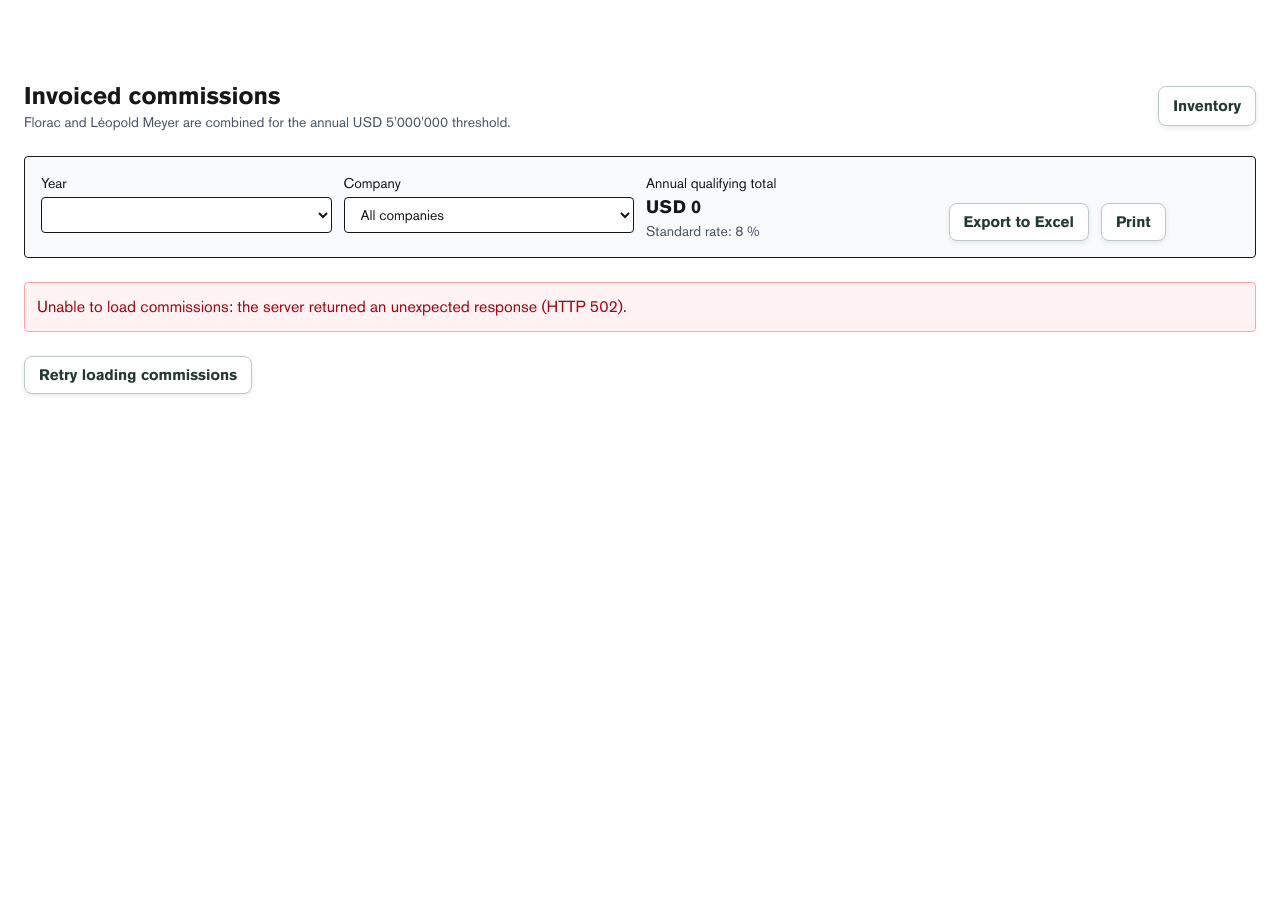
Scenario: commission invoice file input › stops loading and offers retry after an HTML error page
Expected: the message shows "HTTP 502", x1=37 y1=297 x2=627 y2=316
Click the button "Retry loading commissions" at (138, 375), box x1=24 y1=356 x2=252 y2=394
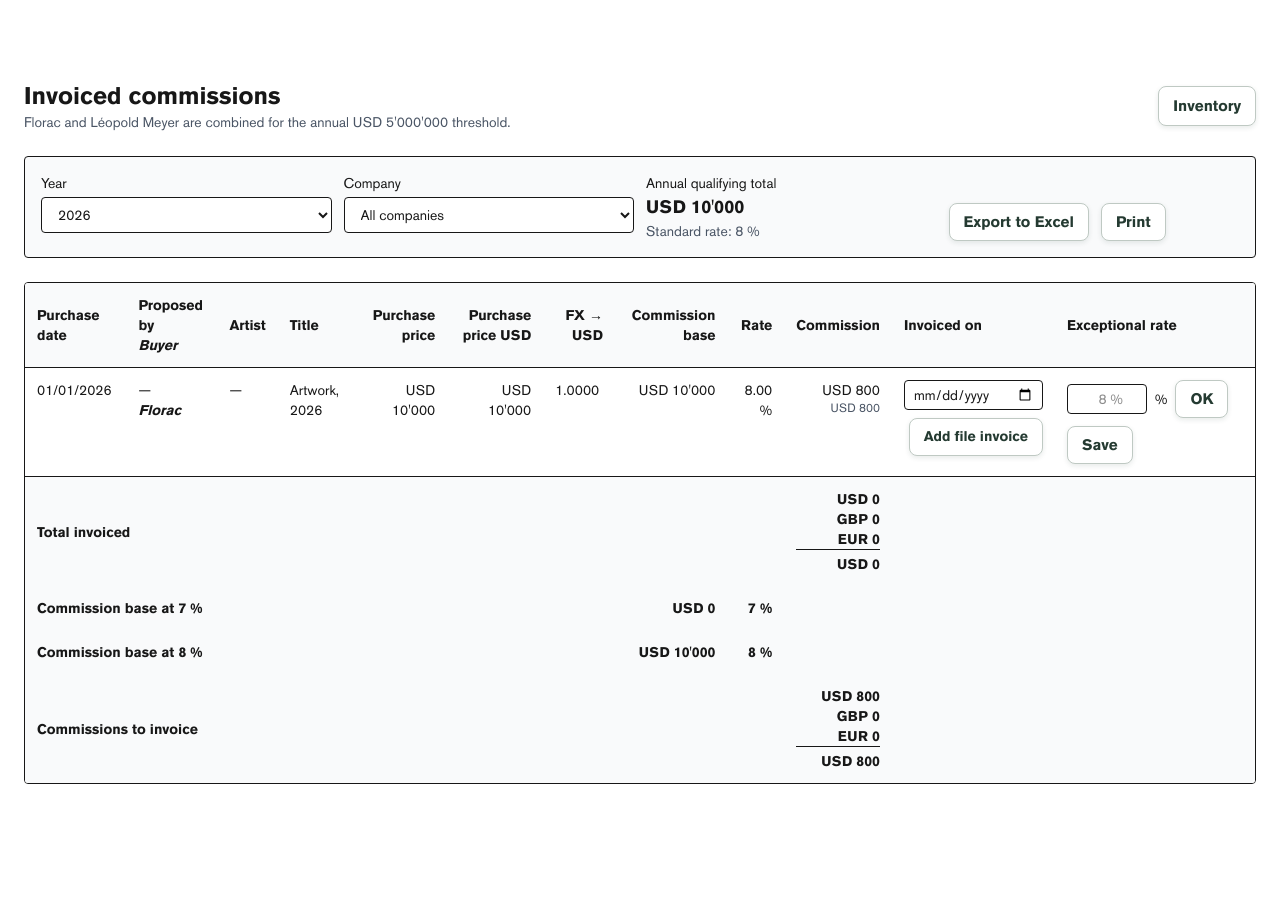
Now the message is gone
Now the text "Artwork" is shown, box x1=290 y1=382 x2=339 y2=418
